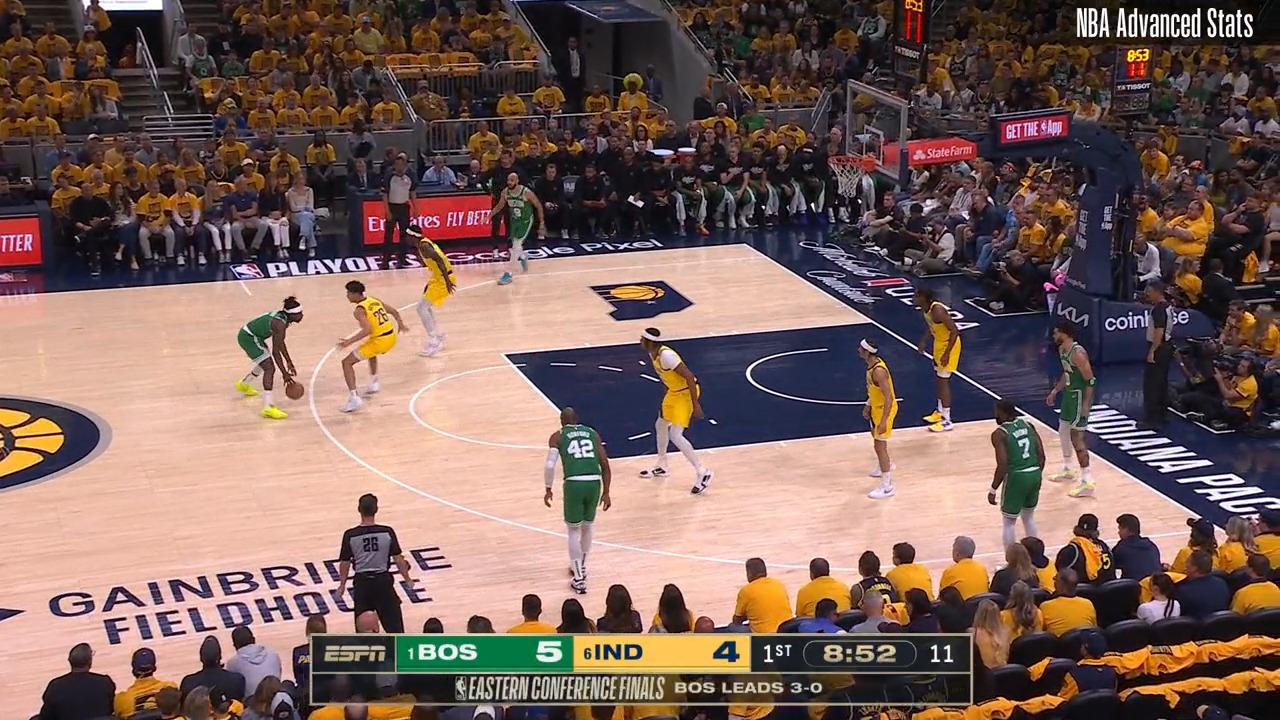basketball: (285, 379, 306, 404)
